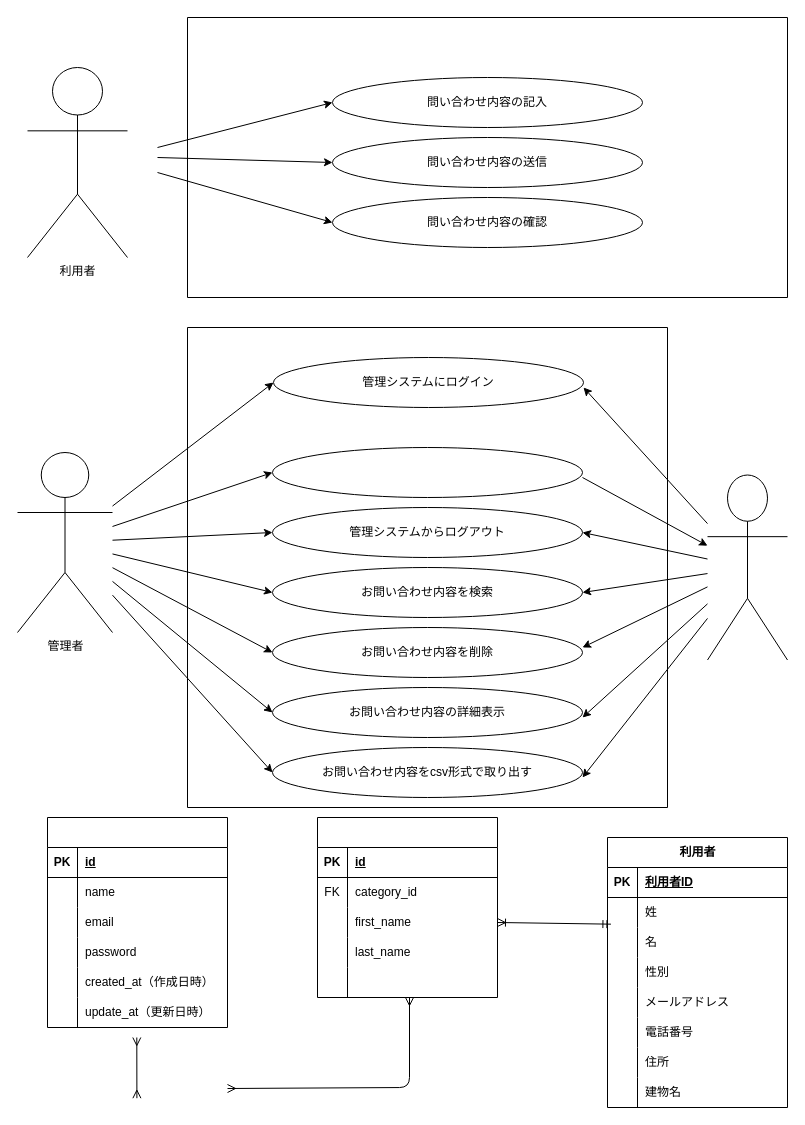
Some shapes in this 805 by 1125 pixel diagram are drawn without their labels. Here are the shapes that lost their labels. From the top down, the box of each, then its label:
(186, 16, 788, 298): 問い合わせ送信システム
(272, 446, 582, 498): 新規ユーザーの作成・登録
(186, 326, 668, 808): 問い合わせ管理システム
(706, 474, 788, 660): 新規管理者
(46, 816, 228, 1028): users
(316, 816, 498, 998): contacts
